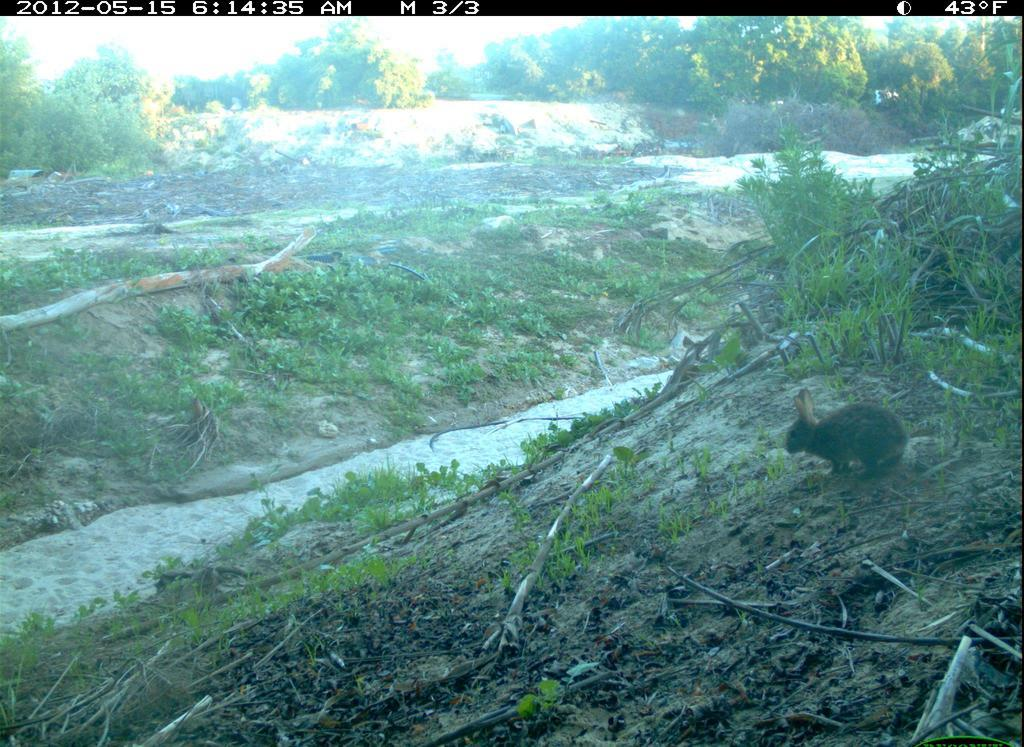rabbit: (776, 385, 914, 486)
